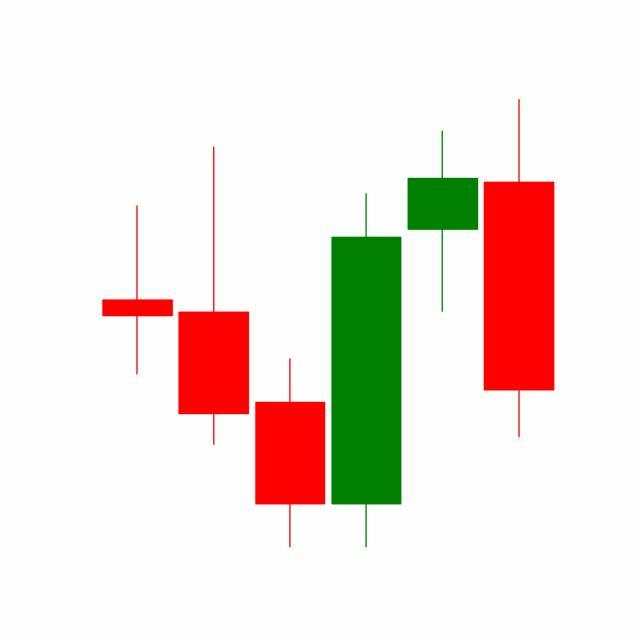Upside-Downside Gap Three Methods: (326, 99, 555, 549)
